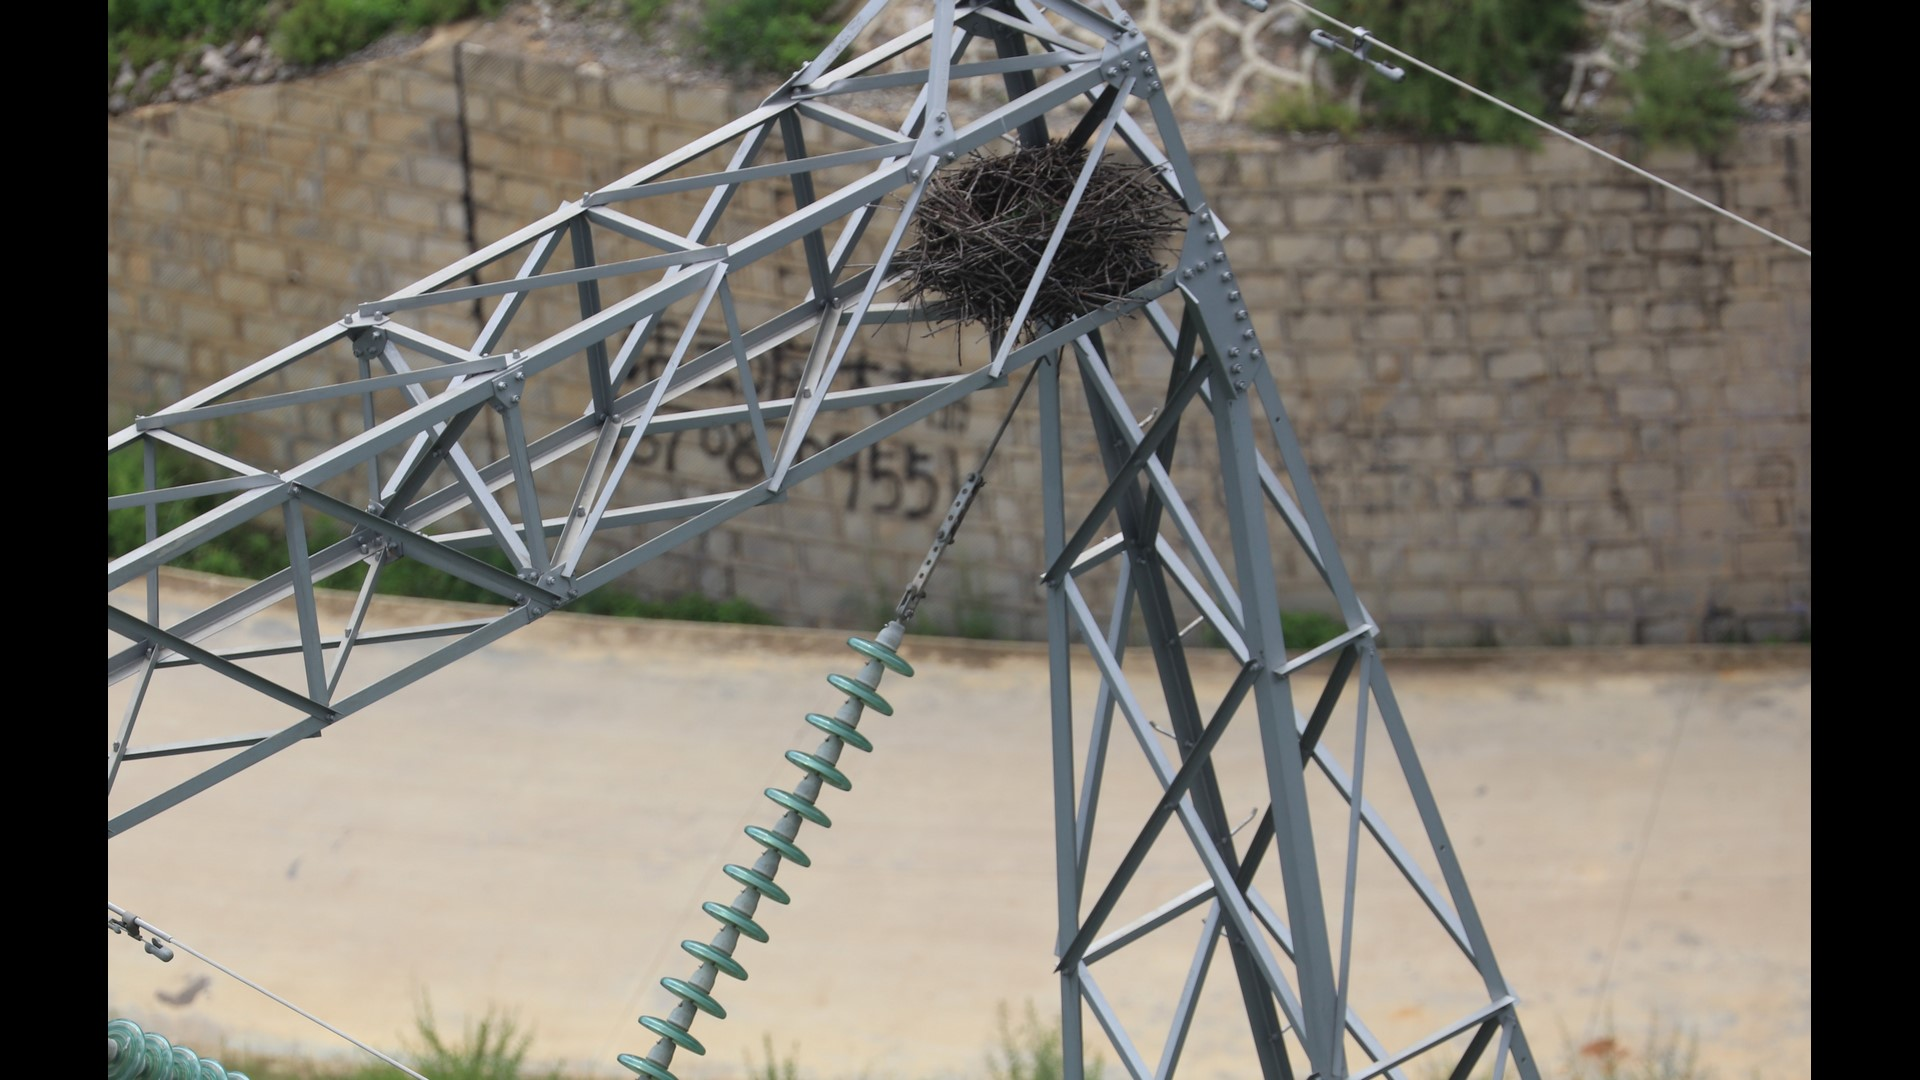niaowo: (895, 132, 1185, 342)
